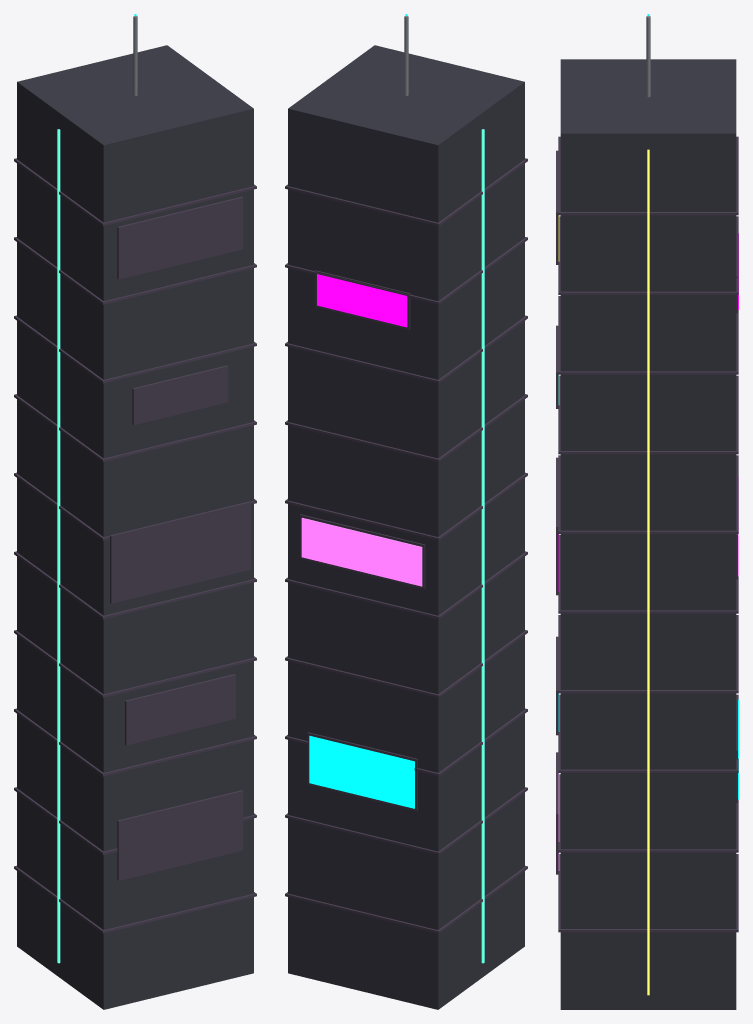
Rendered from NEON_BLD_SignTower_LG.glb.
The picture shows the model from 3 angles, left to right: view 1: azimuth 30°, elevation 25°; view 2: azimuth 150°, elevation 25°; view 3: azimuth 270°, elevation 25°; orthographic projection.
Parts seen in each view (by area): view 1: NEON_BLD_SignTower_LG; view 2: NEON_BLD_SignTower_LG; view 3: NEON_BLD_SignTower_LG.
Boxes of the visible parts, x1,y1,x2,y2 form: NEON_BLD_SignTower_LG: [14, 14, 256, 1009]; NEON_BLD_SignTower_LG: [285, 14, 527, 1009]; NEON_BLD_SignTower_LG: [556, 14, 738, 1009].
Bounding box in the file's own units: 10.32 × 60.13 × 10.39.
